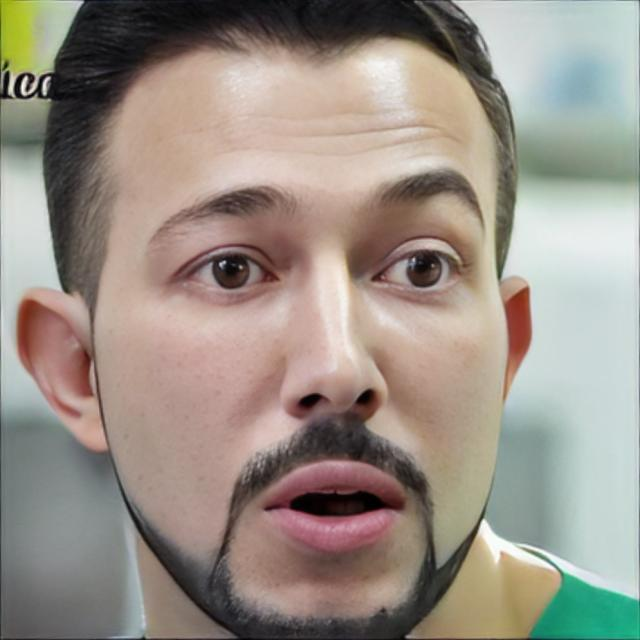surprise: (94, 27, 509, 640)
